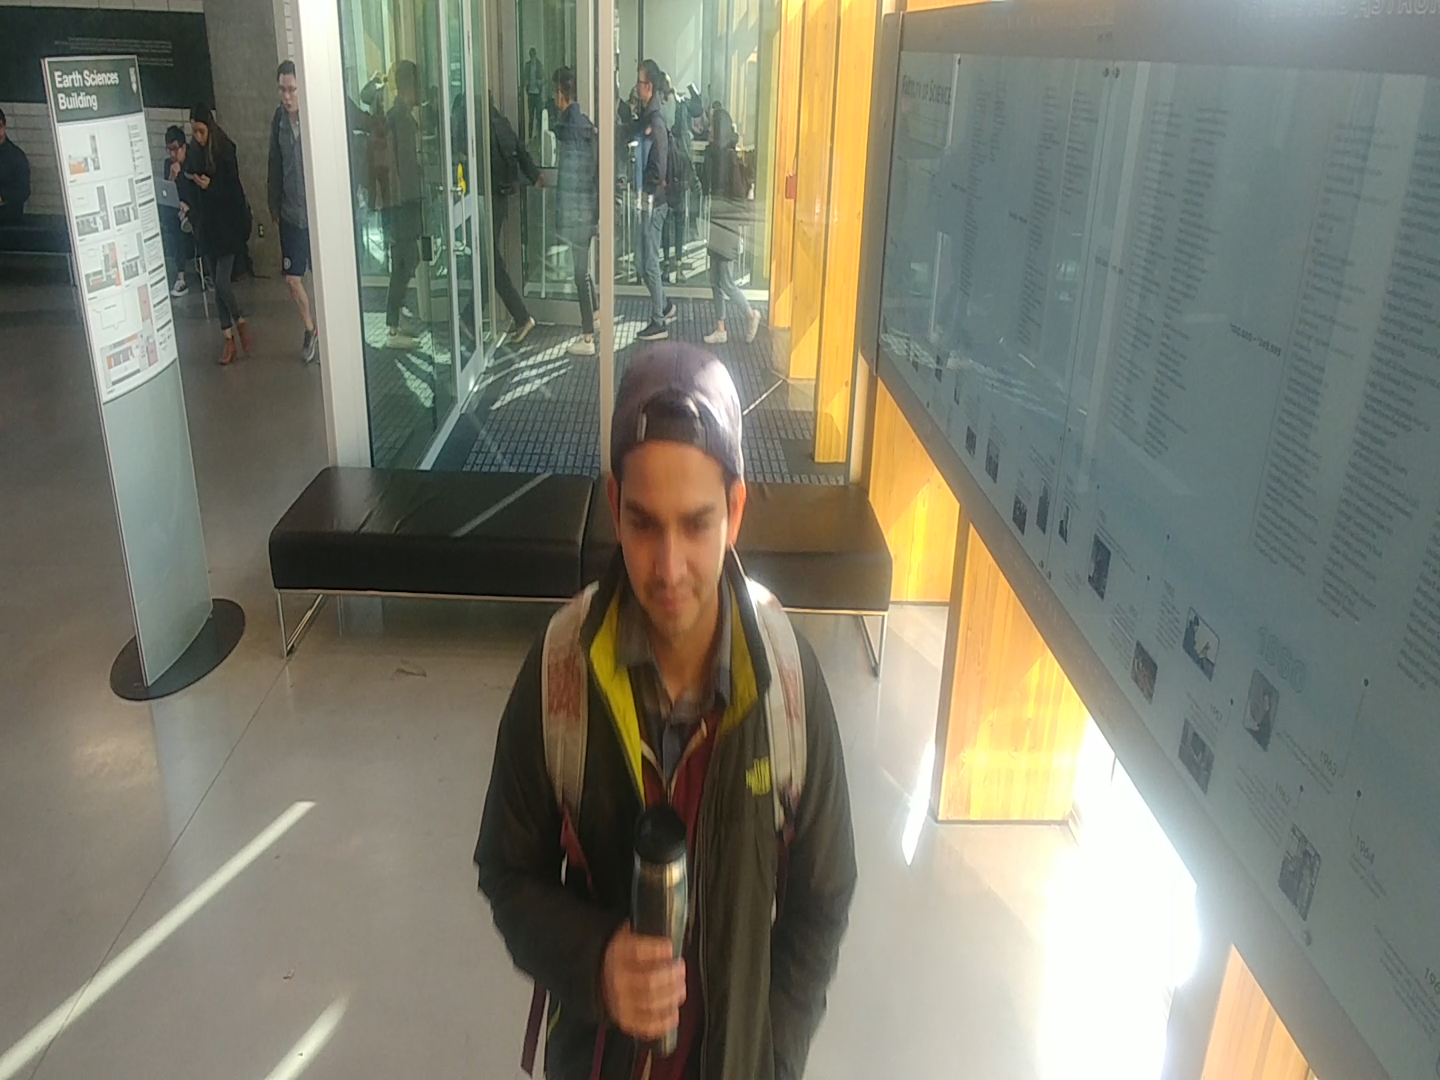face: (589, 324, 767, 647), (627, 51, 675, 114), (181, 86, 224, 153), (697, 96, 742, 155), (543, 57, 586, 116), (270, 55, 304, 126), (160, 115, 195, 171)
human: (461, 327, 875, 1080), (354, 46, 435, 362), (176, 91, 262, 381), (620, 53, 698, 343), (692, 92, 774, 348), (257, 46, 319, 380), (539, 57, 602, 362)
